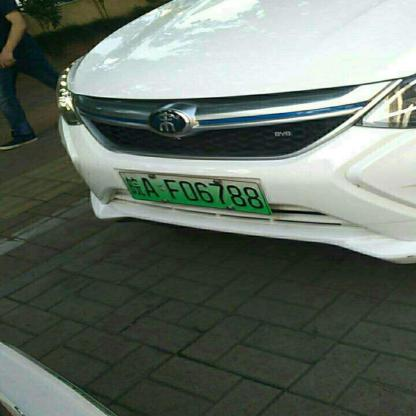lp: (120, 172, 268, 213)
